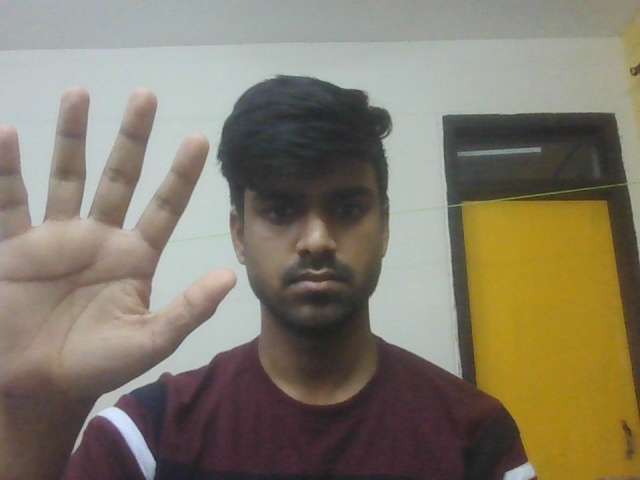hello: (1, 84, 241, 414)
